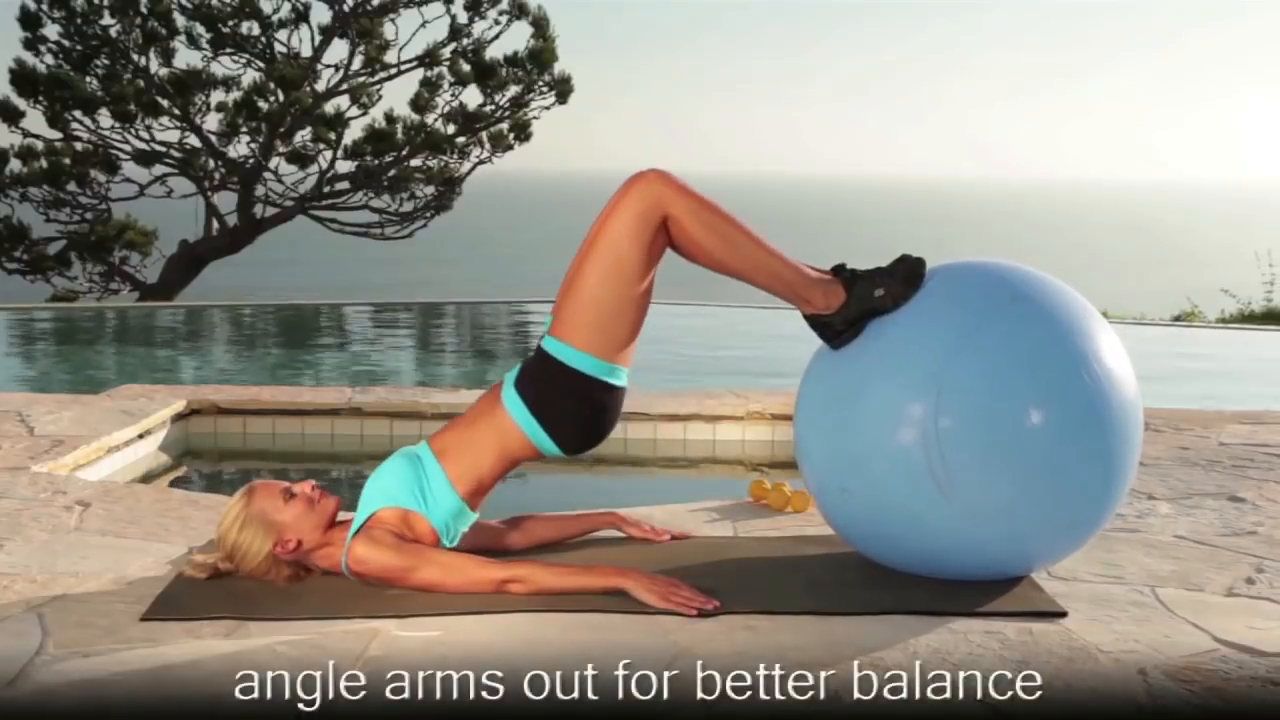yogaball: (790, 256, 1158, 587)
